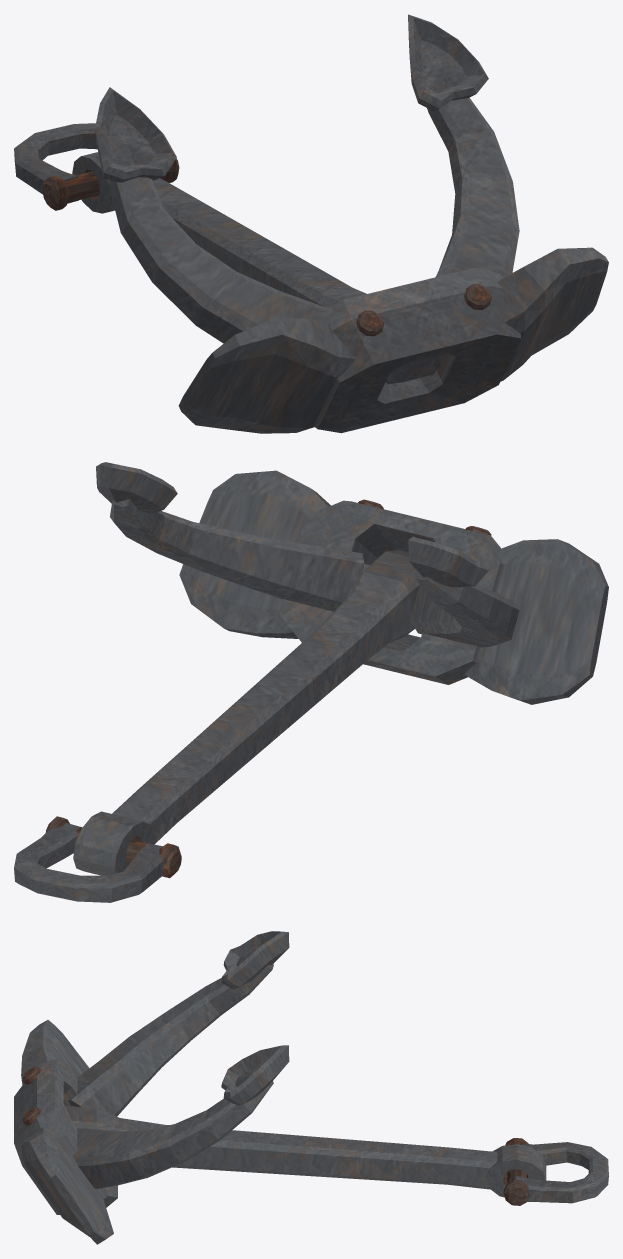
File: Ancora-Media.glb
The picture shows the model from 3 angles, top to bottom: view 1: azimuth 30°, elevation 25°; view 2: azimuth 150°, elevation 25°; view 3: azimuth 270°, elevation 25°; orthographic projection. The views are drawn at different scales.
Visible parts, largest first — view 1: Âncora; view 2: Âncora; view 3: Âncora.
Part boxes in pixels (box(x1,y1,x2,y2)): Âncora: box(14, 14, 608, 433); Âncora: box(14, 462, 608, 902); Âncora: box(14, 931, 608, 1244).
Size of the model in its own units: 0.9864 by 0.5995 by 1.59.
2 materials, 2 textured.
